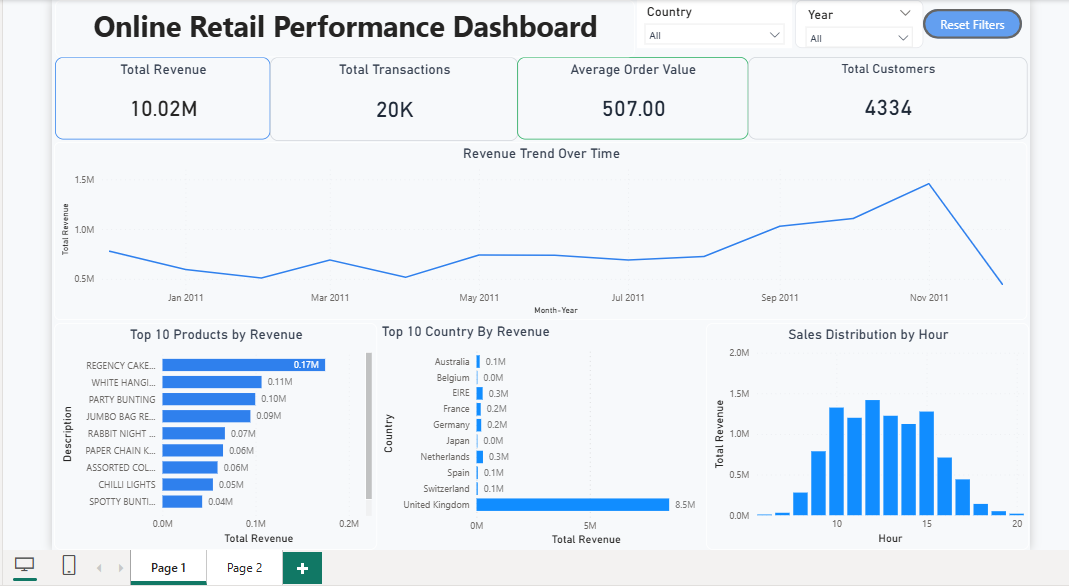

The dashboard page shown, as its layout file describes it:
{"tool":"powerbi","page":{"name":"Page 1","canvas":[1280,720],"ordinal":0},"visuals":[{"type":"group","id":"g1","title":"Group 1","box":[2.9,74.9,1276.9,645.3],"z":0},{"type":"lineChart","title":"Revenue Trend Over Time","fields":{"Y":["online_retail_cleaned.Total Revenue"],"Category":["online_retail_cleaned.Month-Year"]},"box":[2.9,186,1274.4,233.3],"z":0,"group":"g1"},{"type":"textbox","box":[4.3,0,758.9,74.9],"z":1000},{"type":"clusteredBarChart","title":"Top 10 Products by Revenue","fields":{"Category":["online_retail_cleaned.Description"],"Y":["online_retail_cleaned.Total Revenue"]},"box":[3.3,423.6,423.4,296.6],"z":1000,"group":"g1"},{"type":"slicer","fields":{"Values":["online_retail_cleaned.Year"]},"box":[972,0,168.5,63.4],"z":3000},{"type":"clusteredColumnChart","title":"Sales Distribution by Hour","fields":{"Y":["online_retail_cleaned.Total Revenue"],"Category":["online_retail_cleaned.Hour"]},"box":[856.6,423.4,423.3,296.6],"z":3000,"group":"g1"},{"type":"slicer","fields":{"Values":["online_retail_cleaned.Country"]},"box":[766.1,0,203,63.4],"z":4000},{"type":"card","title":"Total Revenue","fields":{"Values":["online_retail_cleaned.Total Revenue"]},"box":[4.4,74.9,282.2,108],"z":5000,"group":"g1"},{"type":"clusteredBarChart","title":"Top 10 Country By Revenue","fields":{"Category":["online_retail_cleaned.Country"],"Y":["online_retail_cleaned.Total Revenue"]},"box":[426.2,423.4,430.6,296.6],"z":5000},{"type":"actionButton","box":[1140.5,11.5,129.6,38.9],"z":6000},{"type":"card","title":"Total Transactions","fields":{"Values":["online_retail_cleaned.Total Transactions"]},"box":[285.7,74.9,324.8,109.8],"z":6000,"group":"g1"},{"type":"card","title":"Average Order Value","fields":{"Values":["online_retail_cleaned.Average Order Value"]},"box":[609.6,74.9,302.8,107.6],"z":7000,"group":"g1"},{"type":"card","title":"Total Customers","fields":{"Values":["online_retail_cleaned.Total Customers"]},"box":[911.5,74.9,365.8,108],"z":8000,"group":"g1"}]}

Visuals, with their boxes on the page's 1280x720 design canvas (x1, y1, x2, y2). These are canvas units, not pixel positions in the 1069x586 screenshot, which may show the page scaled, cropped or inside an application window:
"Group 1" group: x1=3 y1=75 x2=1280 y2=720
"Revenue Trend Over Time" lineChart: x1=3 y1=186 x2=1277 y2=419
textbox: x1=4 y1=0 x2=763 y2=75
"Top 10 Products by Revenue" clusteredBarChart: x1=3 y1=424 x2=427 y2=720
slicer - online_retail_cleaned.Year: x1=972 y1=0 x2=1140 y2=63
"Sales Distribution by Hour" clusteredColumnChart: x1=857 y1=423 x2=1280 y2=720
slicer - online_retail_cleaned.Country: x1=766 y1=0 x2=969 y2=63
"Total Revenue" card: x1=4 y1=75 x2=287 y2=183
"Top 10 Country By Revenue" clusteredBarChart: x1=426 y1=423 x2=857 y2=720
actionButton: x1=1140 y1=12 x2=1270 y2=50
"Total Transactions" card: x1=286 y1=75 x2=610 y2=185
"Average Order Value" card: x1=610 y1=75 x2=912 y2=182
"Total Customers" card: x1=912 y1=75 x2=1277 y2=183
